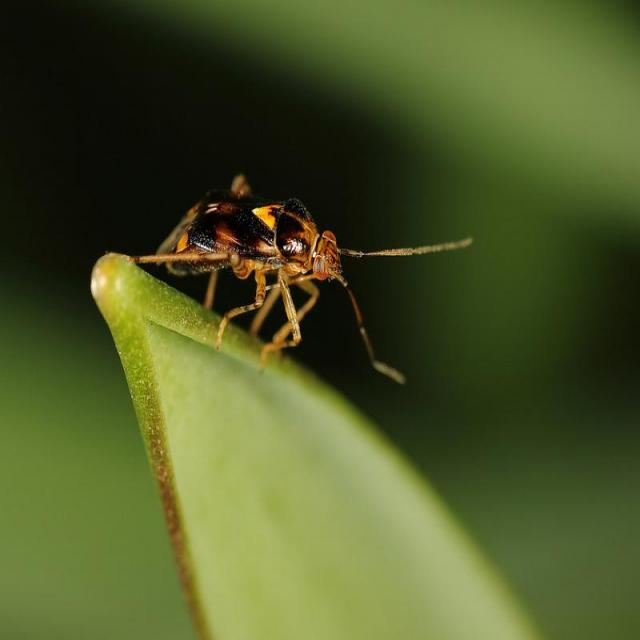Miridae-Adult-: (108, 163, 481, 394)
